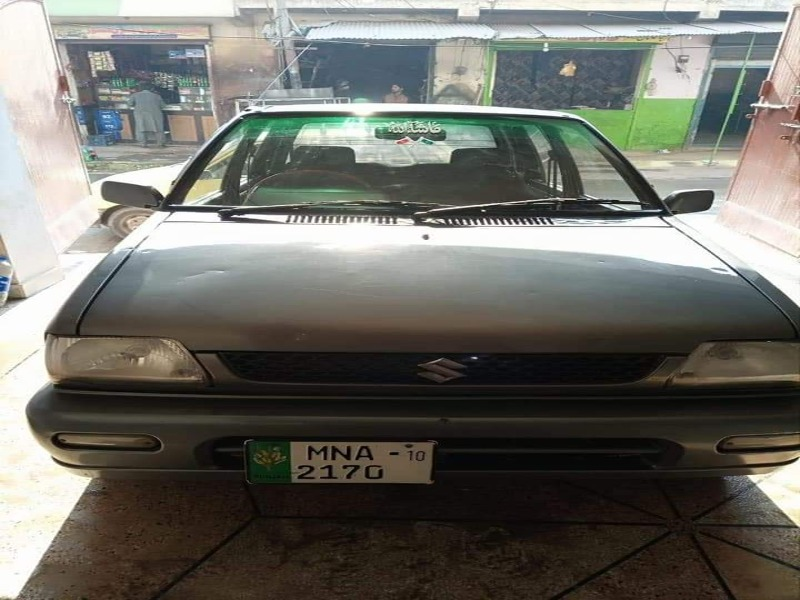License Plate: (237, 434, 442, 494)
